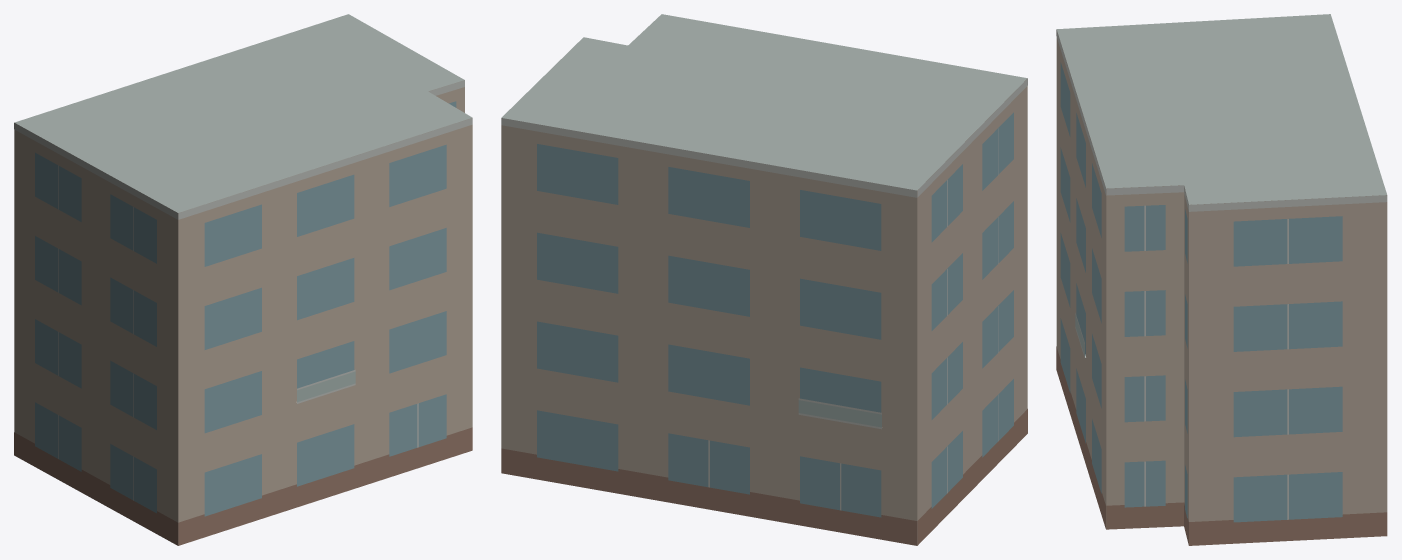
Rendered from survey-upis-32700465.glb.
The picture shows the model from 3 angles, left to right: view 1: azimuth 30°, elevation 25°; view 2: azimuth 150°, elevation 25°; view 3: azimuth 270°, elevation 25°; orthographic projection. The views are drawn at different scales.
Parts seen in each view (by area): view 1: survey-upis-32700465.tmp; view 2: survey-upis-32700465.tmp; view 3: survey-upis-32700465.tmp.
Boxes of the visible parts, x1,y1,x2,y2 form: survey-upis-32700465.tmp: (14, 14, 472, 545); survey-upis-32700465.tmp: (501, 14, 1027, 545); survey-upis-32700465.tmp: (1056, 14, 1387, 545).
Size of the model in its own units: 14.17 by 11.8 by 10.38.
